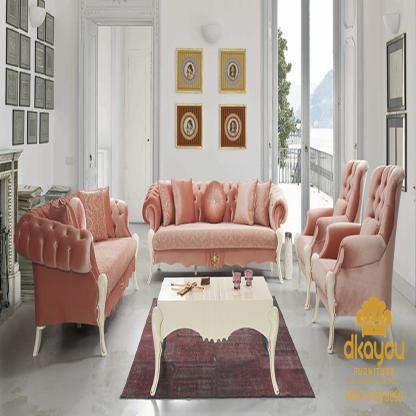bantal: (173, 181, 196, 224), (234, 180, 253, 226), (253, 180, 271, 223)
sova: (12, 191, 141, 342), (305, 161, 408, 346), (143, 176, 286, 278)
tanaman: (145, 275, 281, 397)
